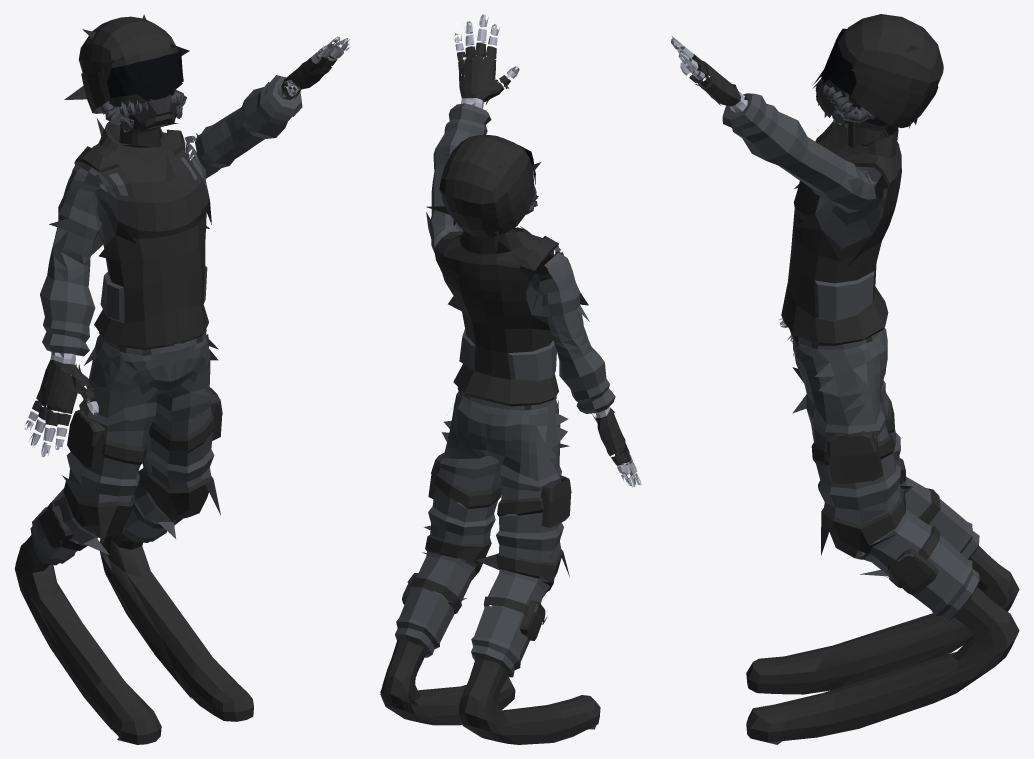
The model's file is frozen-12.glb.
3 renders of one model, left to right at view 1: azimuth 30°, elevation 25°; view 2: azimuth 150°, elevation 25°; view 3: azimuth 270°, elevation 25°, orthographic. The views are drawn at different scales.
Visible parts, largest first — view 1: near, far; view 2: near, far; view 3: near, far.
Boxes of the visible parts, left/top/right/bottom form: near: left=15, top=16, right=350, bottom=744; far: left=15, top=14, right=287, bottom=743; near: left=380, top=14, right=641, bottom=744; far: left=380, top=129, right=606, bottom=736; near: left=671, top=15, right=1019, bottom=741; far: left=742, top=14, right=1014, bottom=744.
Bounding box in the file's own units: 0.7552 × 1.94 × 0.8443.
Materials: 1 (1 with a texture image).
